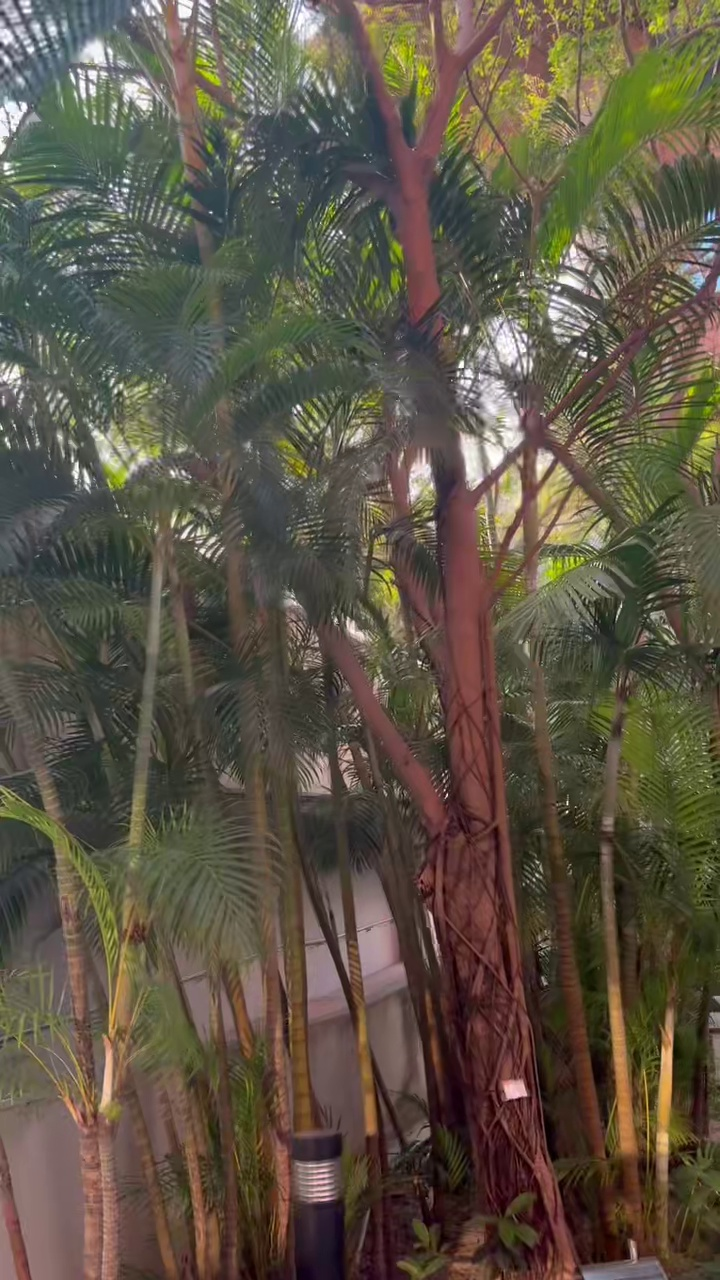Ficus benjamina: (322, 410, 577, 1279), (333, 0, 511, 394)
